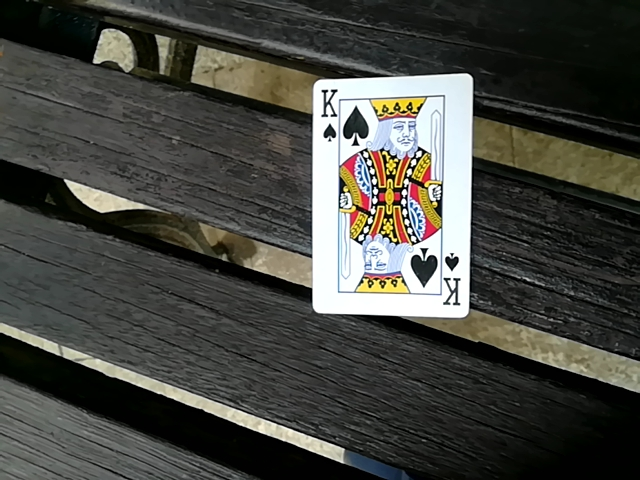ht k: (314, 63, 478, 312)
